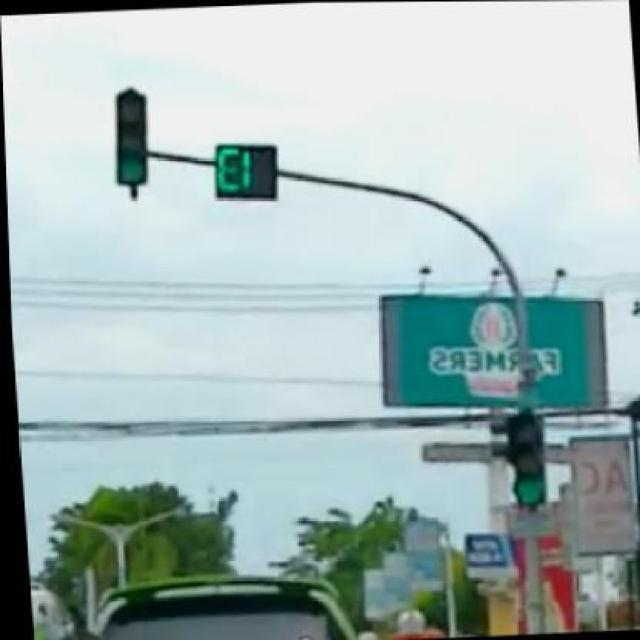green_light: (506, 407, 544, 507), (114, 87, 146, 197)
